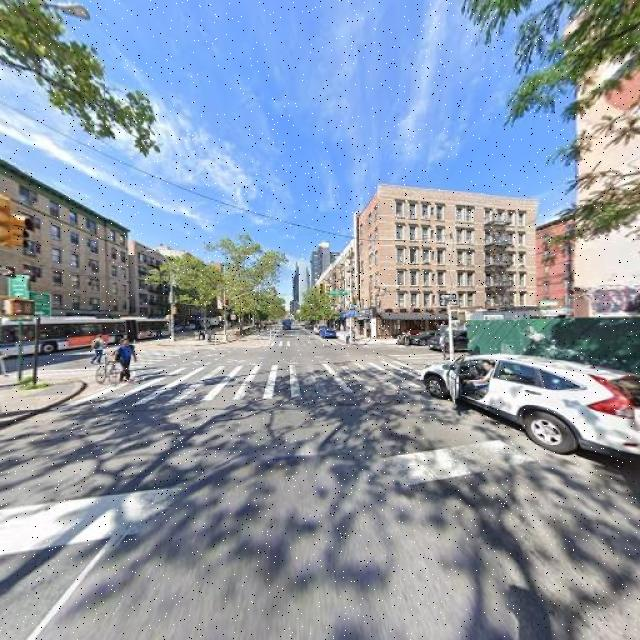Building: (360, 183, 534, 338), (573, 1, 640, 383), (1, 164, 129, 347)
